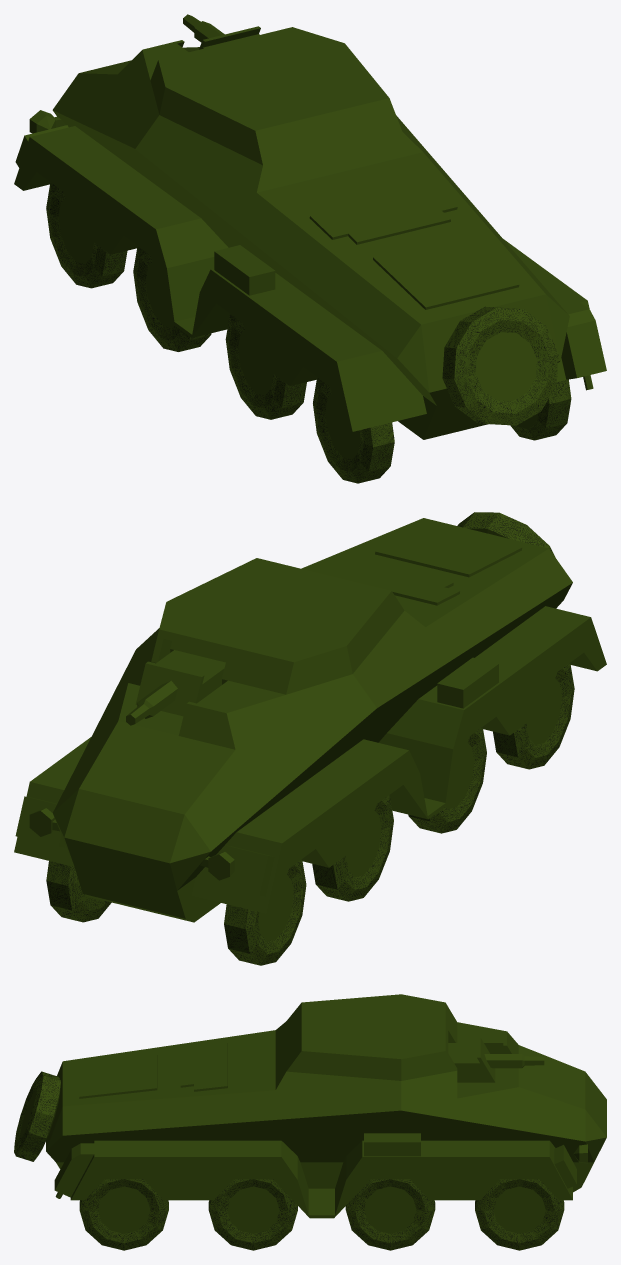
The picture shows the model from 3 angles, top to bottom: view 1: azimuth 30°, elevation 25°; view 2: azimuth 150°, elevation 25°; view 3: azimuth 270°, elevation 25°; orthographic projection. The views are drawn at different scales.
Visible parts, largest first — view 1: Material2; view 2: Material2; view 3: Material2.
Part boxes in pixels (x1,y1,x2,y2): Material2: (14, 14, 606, 483); Material2: (14, 512, 606, 965); Material2: (14, 994, 606, 1250).
Bounding box in the file's own units: 855 × 826 × 2361.
